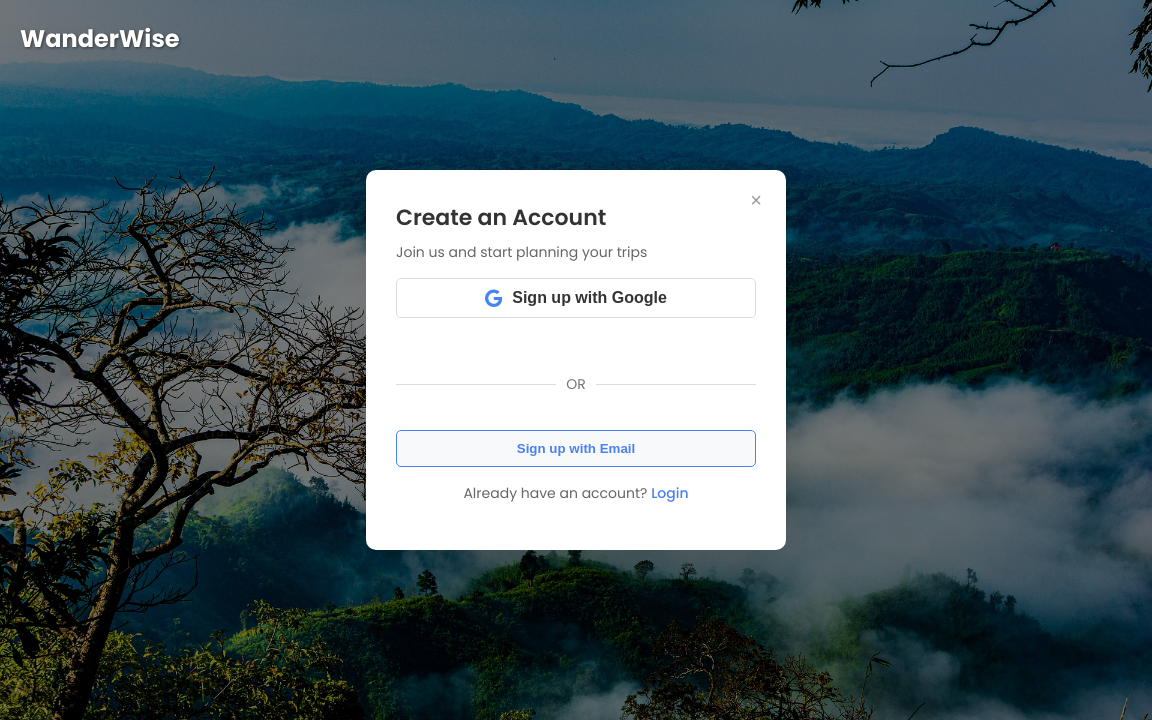
Authentication Integration Tests › Signup Flow Integration › signup with existing email shows error
Click the button "Sign up with Email" at (576,449), box x1=396 y1=430 x2=756 y2=467
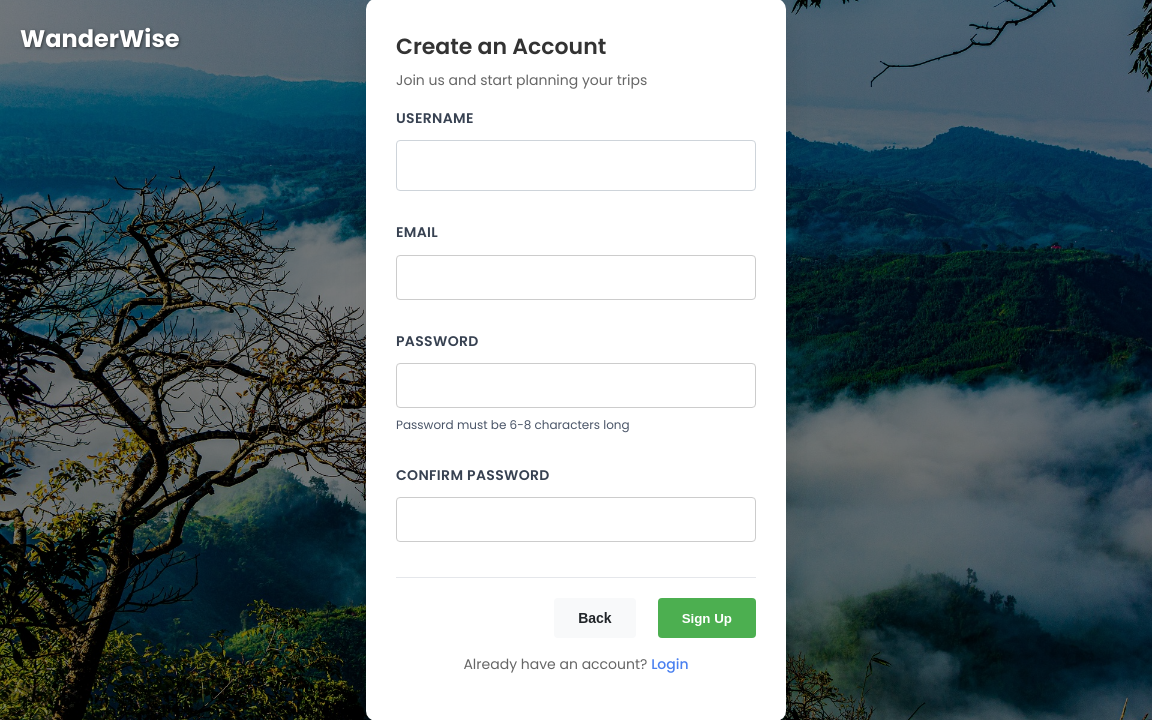
Type "testuser" into the field labelled "Username" at (576,166), box x1=396 y1=140 x2=756 y2=191
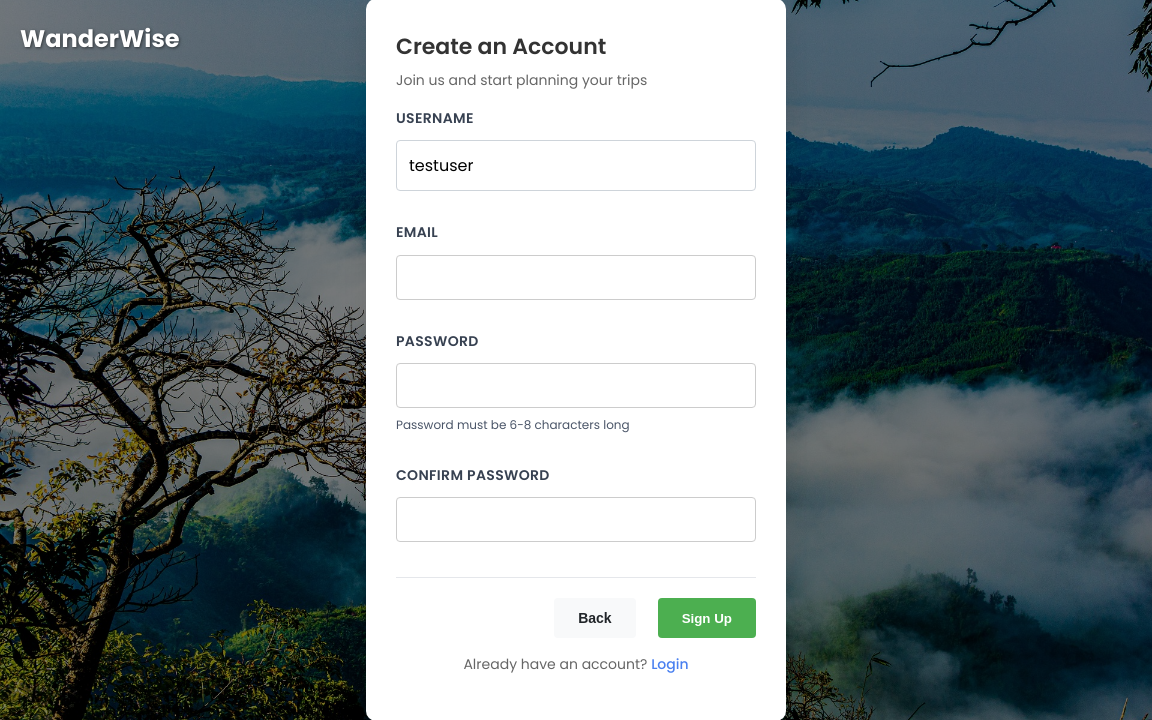
Type "existing@example.com" into the field labelled "Email" at (576,277), box x1=396 y1=254 x2=756 y2=300
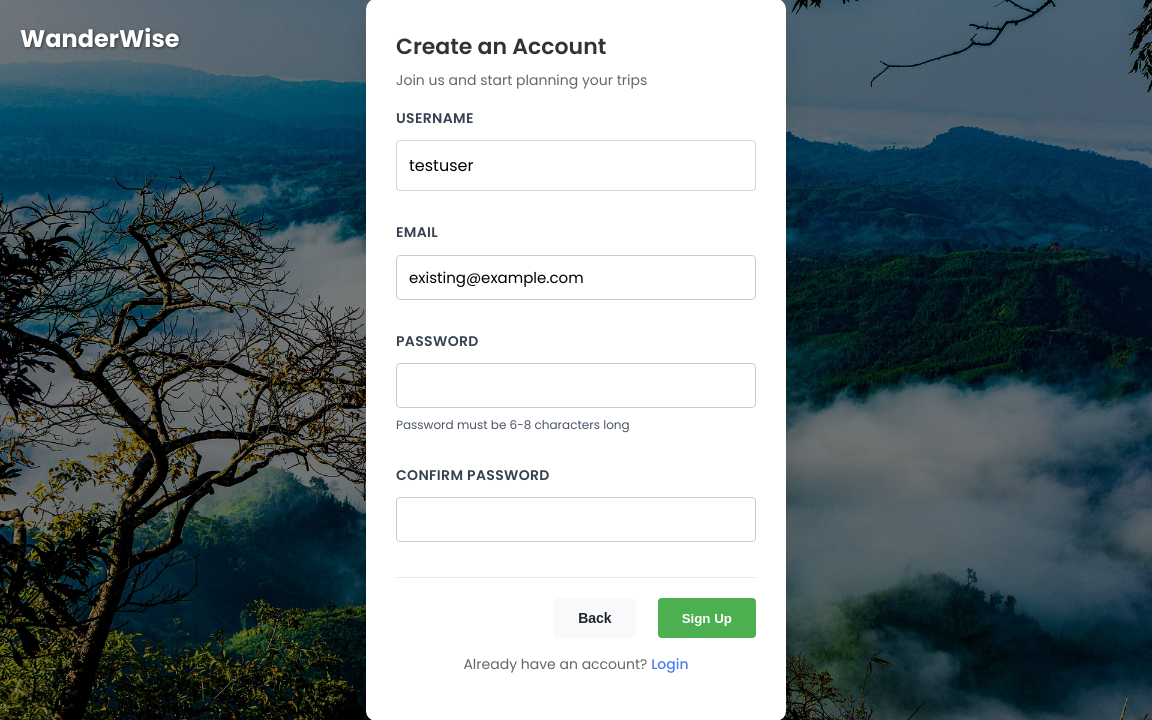
Type "pass123" into the password field labelled "Password" at (576,385), box x1=396 y1=363 x2=756 y2=408
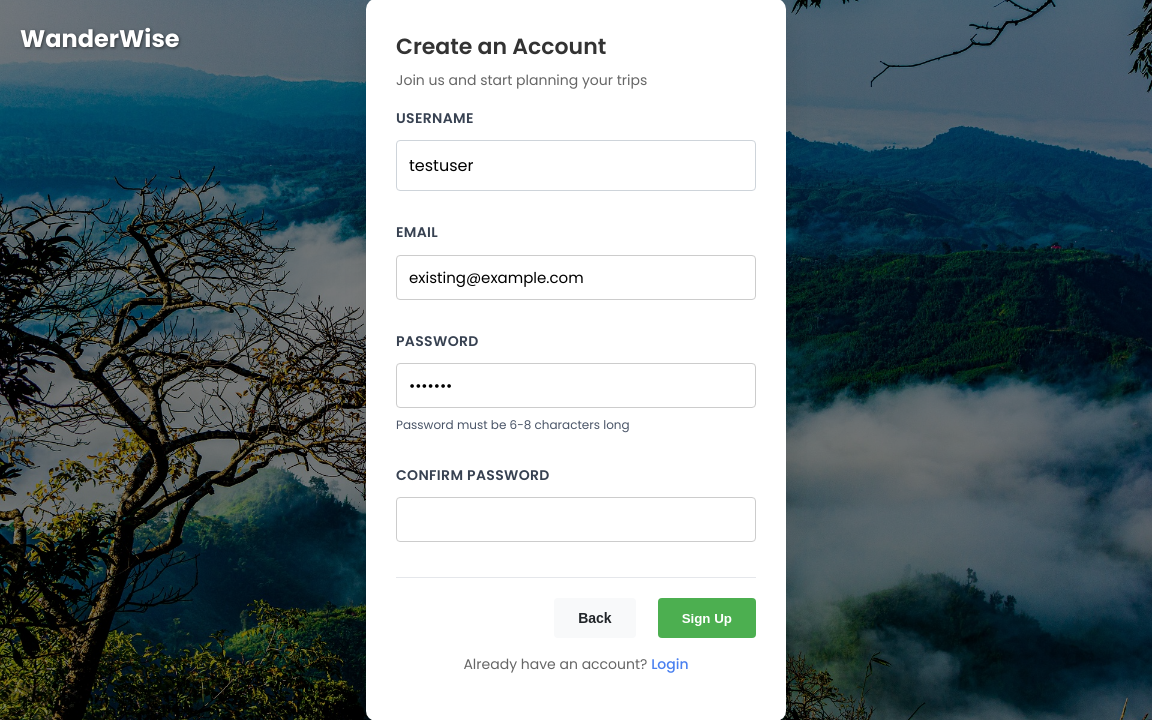
Type "pass123" into the password field labelled "Confirm Password" at (576,520), box x1=396 y1=498 x2=756 y2=542
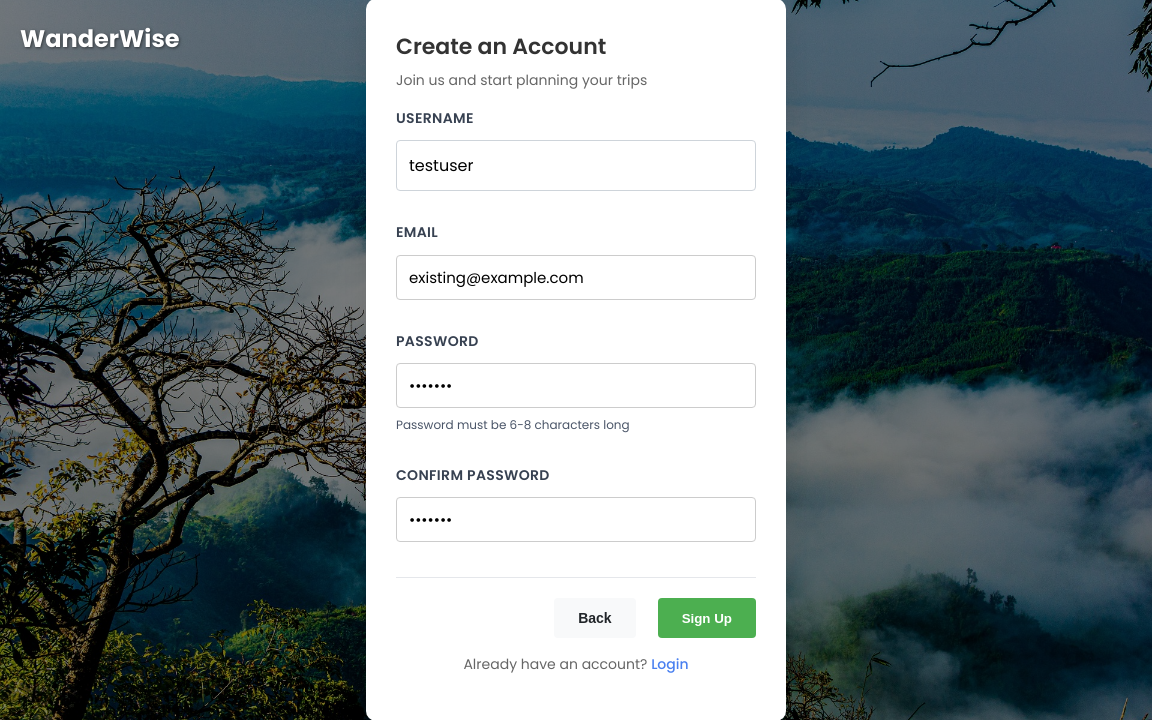
Click the button "Sign Up" at (707,618), box x1=658 y1=598 x2=756 y2=638
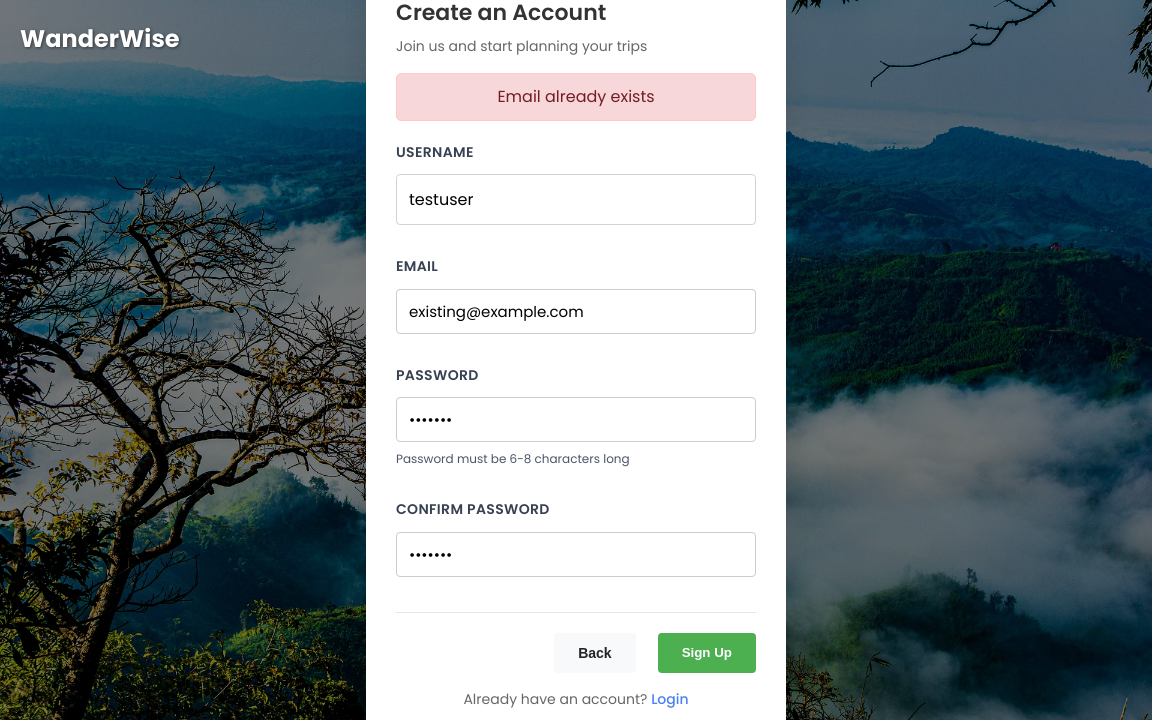
Check: the text "Email already exists" is shown, box x1=396 y1=73 x2=756 y2=121
